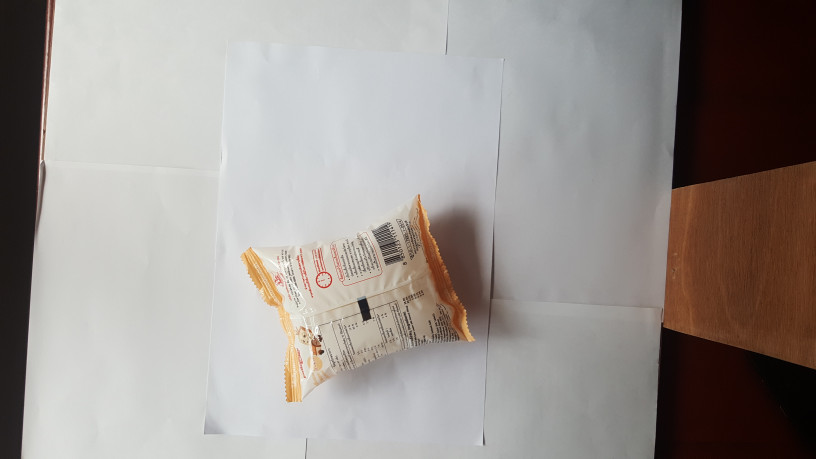farmhouse-sweetsandwich-almond: (235, 188, 477, 405)
